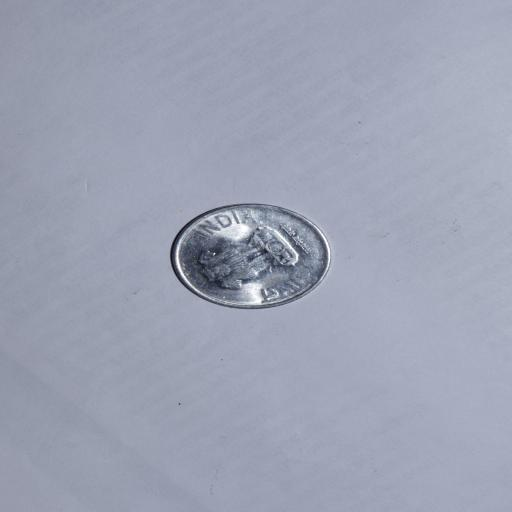rupee2: (166, 202, 336, 312)
